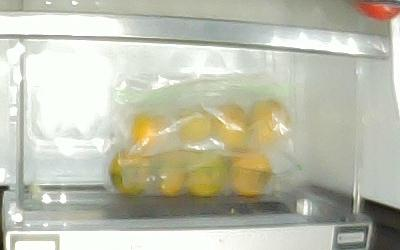tangerine_vinyl: (228, 151, 272, 197), (109, 151, 150, 198), (185, 149, 225, 197), (250, 98, 288, 147), (213, 102, 248, 151), (180, 105, 214, 145), (155, 150, 184, 195), (131, 113, 166, 147)
